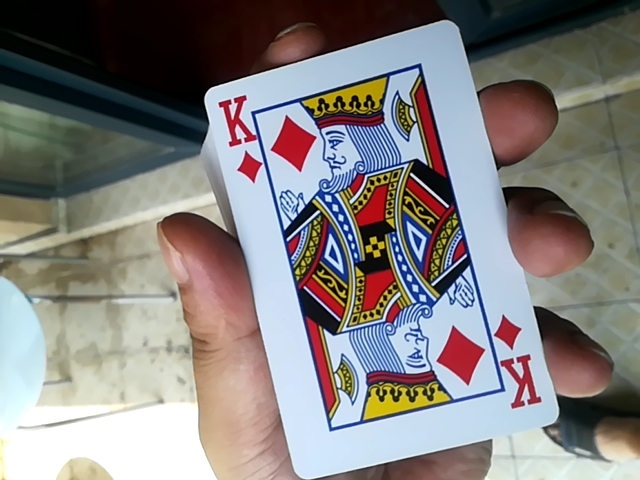fk k: (212, 25, 548, 475)
